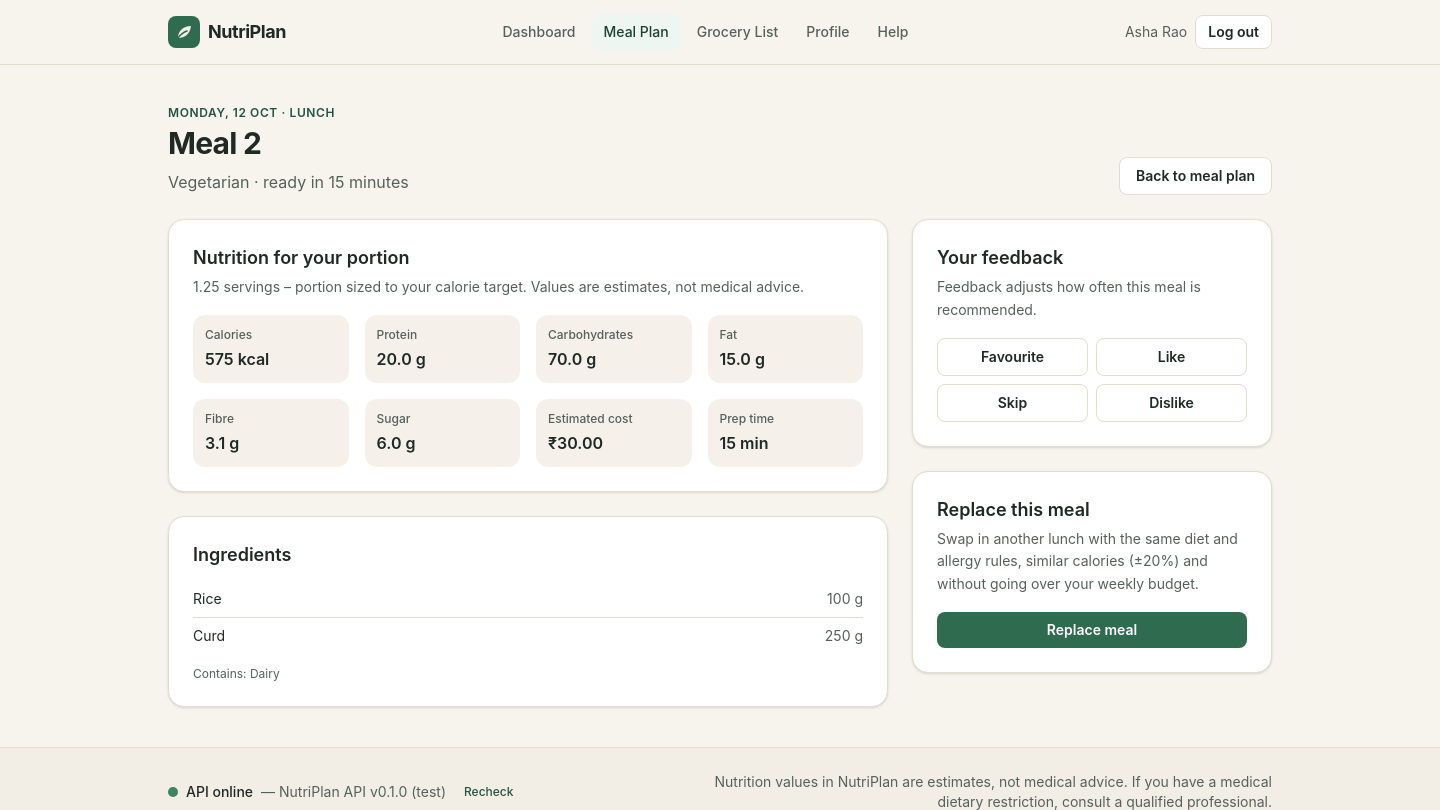
Test: Meal details (feedback & replacement) › reports when no replacement exists (REQ-4.5.5)
What coordinates should you click on to do the following:
click the button "Replace meal"
I would click on:
 (1092, 630)
Its box is left=937, top=612, right=1247, bottom=648.
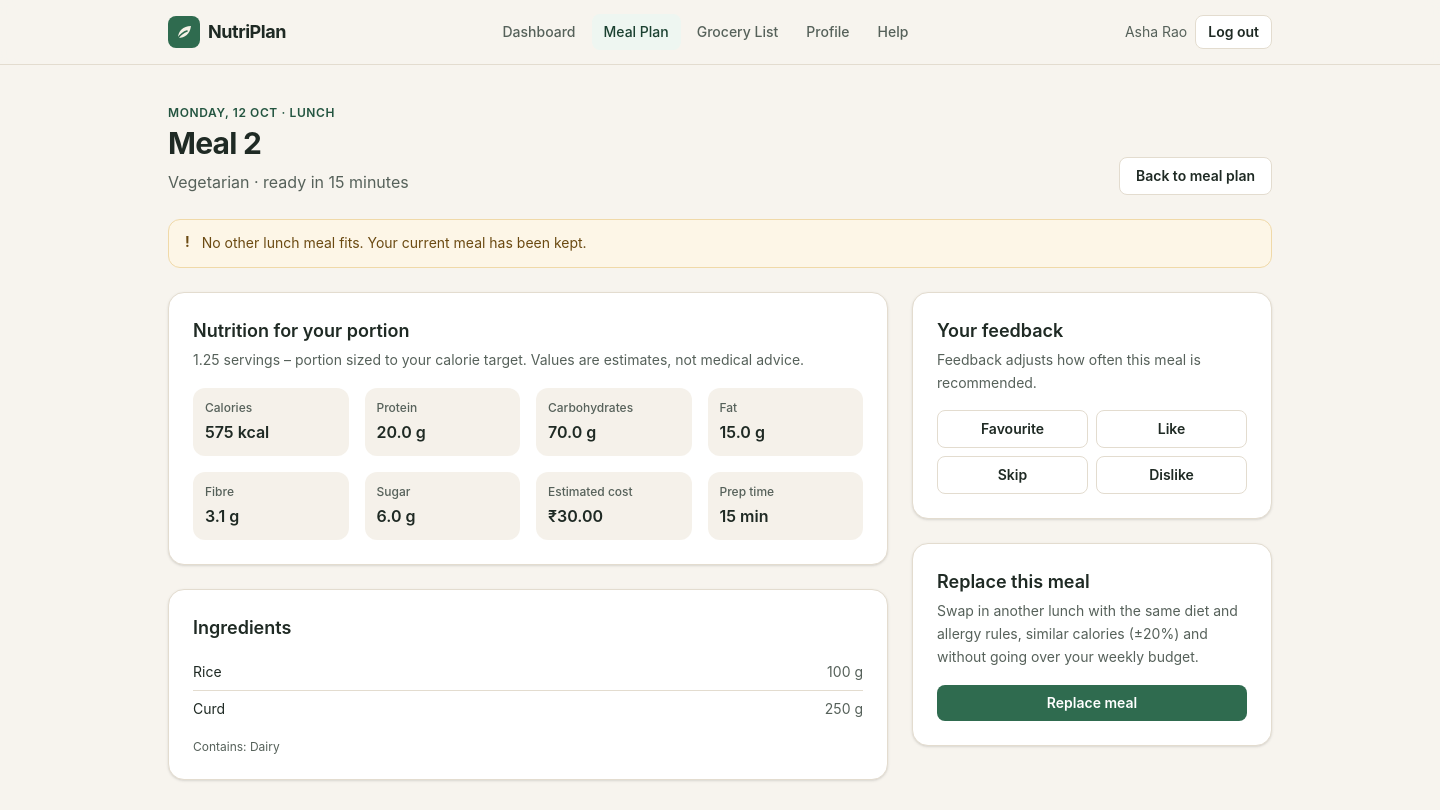
Now the text "No other lunch meal fits. Your current meal has been kept." is shown, box left=202, top=232, right=587, bottom=255
